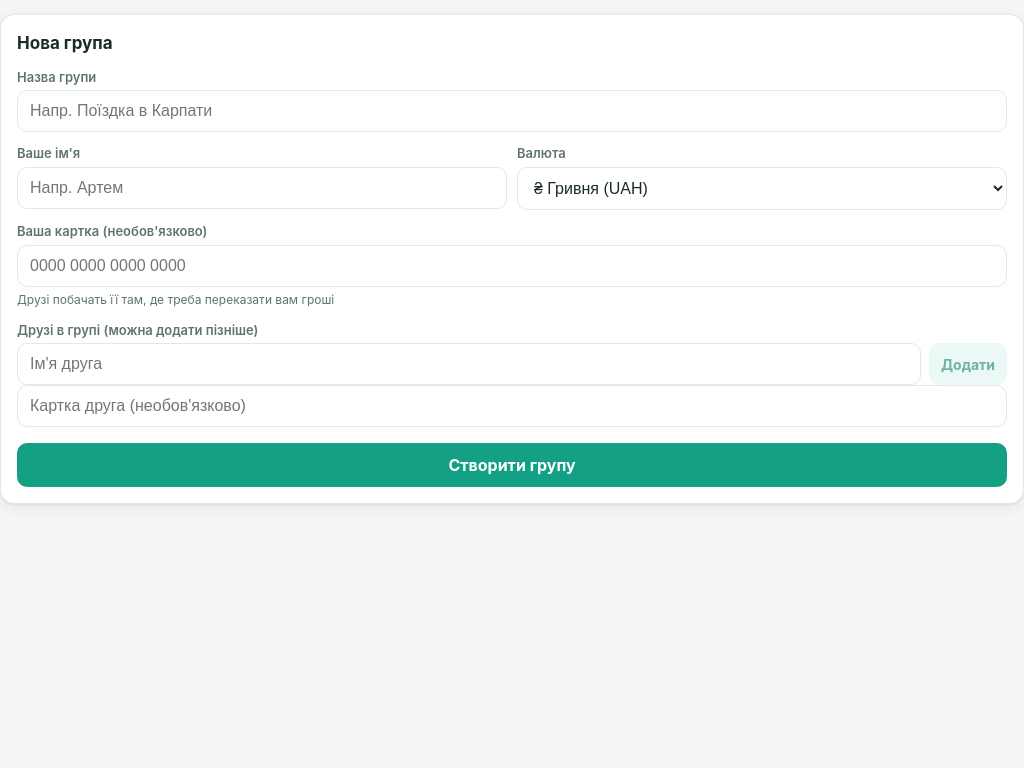
Test: CreateGroupForm › adds a friend as a chip and clears the input
In the field with placeholder "Ім'я друга": (469, 364) [17, 343, 921, 385], type "Оля"
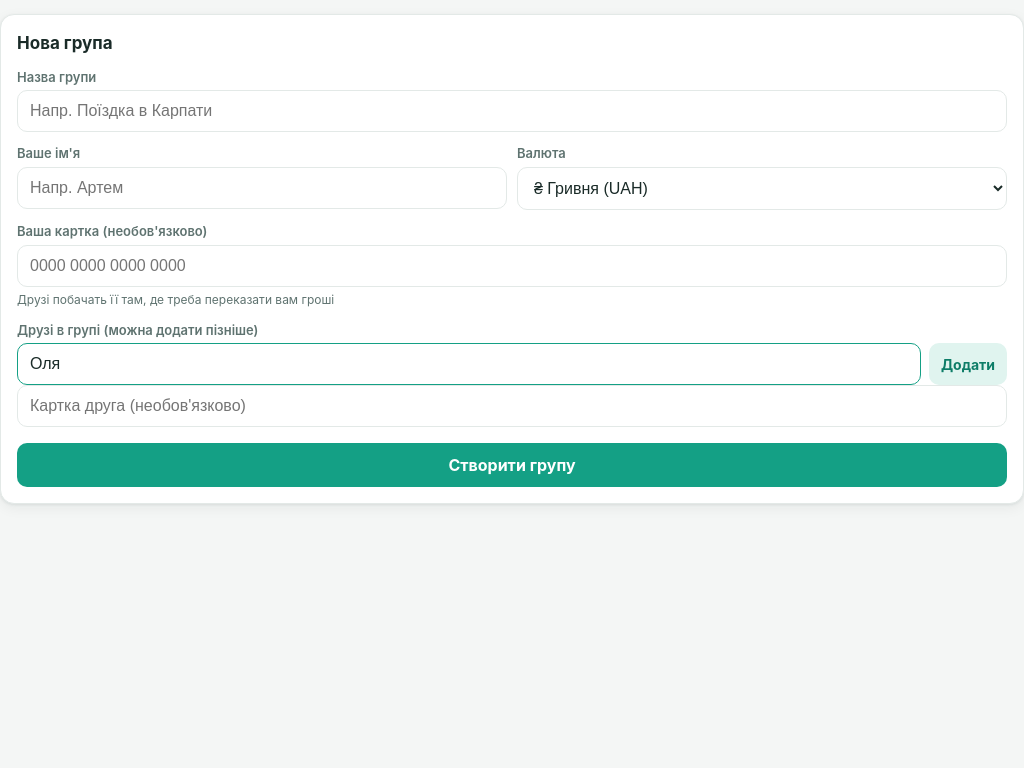
Click the button "Додати": (968, 364) [929, 343, 1007, 385]
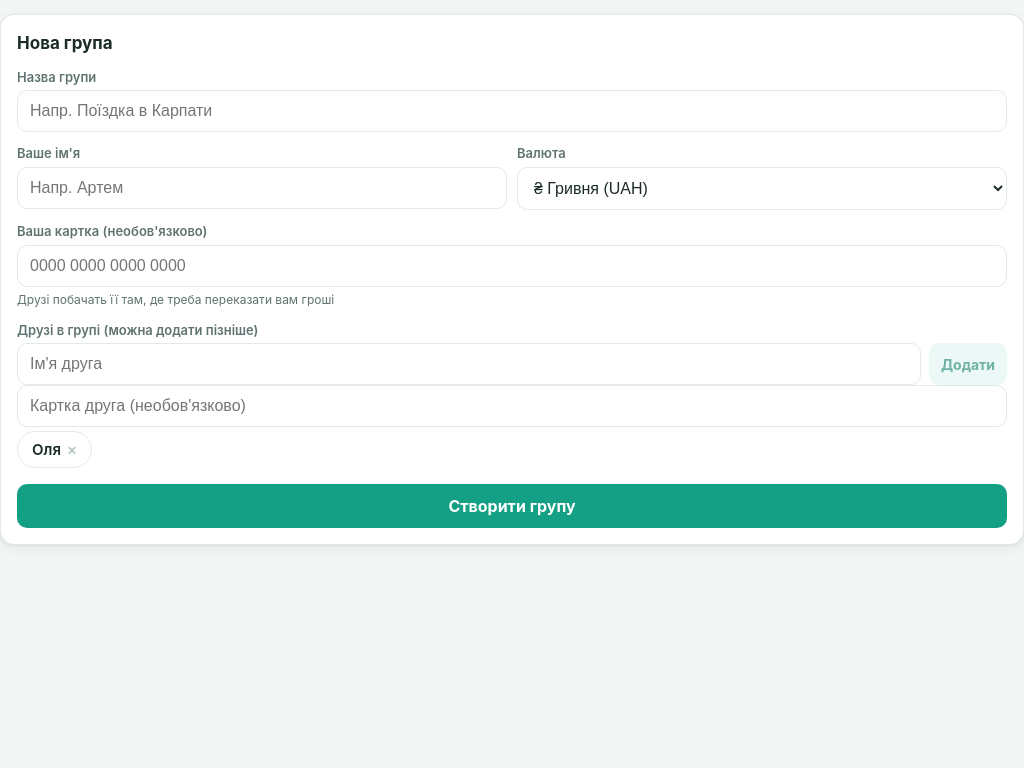
Now the button with aria-label "Прибрати Оля" is shown, box [17, 431, 92, 468]
Now the field with placeholder "Ім'я друга" is empty, box [17, 343, 921, 385]
